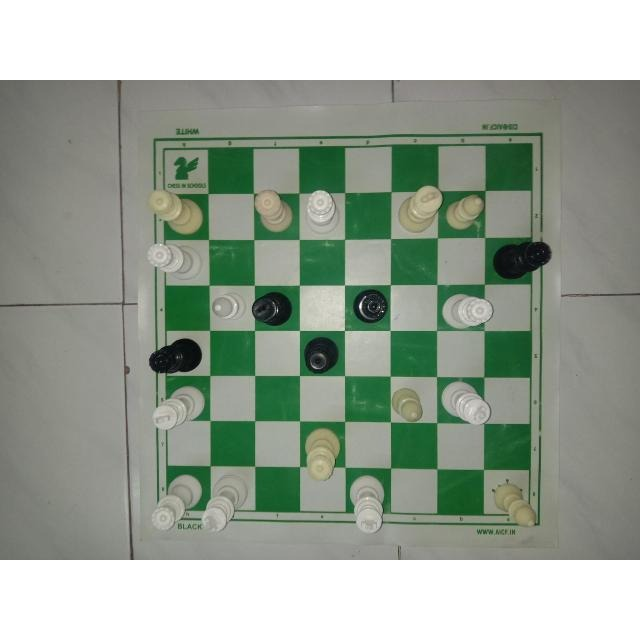black-king: (249, 292, 291, 328)
black-queen: (492, 237, 555, 281), (144, 334, 207, 373), (299, 337, 340, 378), (351, 289, 389, 327)
white-bishop: (490, 480, 540, 532), (442, 194, 486, 230), (389, 384, 425, 425), (212, 291, 246, 323)
white-king: (198, 472, 252, 534), (149, 382, 209, 436), (344, 475, 391, 537), (396, 180, 443, 234), (438, 379, 492, 425)
white-queen: (149, 472, 203, 532), (147, 187, 203, 235), (144, 242, 202, 284), (303, 424, 342, 485), (440, 289, 496, 331), (255, 185, 296, 235), (302, 185, 340, 237)
